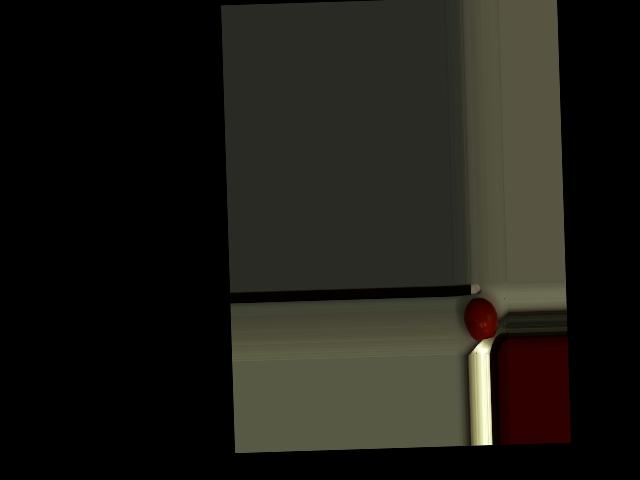tomato: (463, 297, 498, 341)
